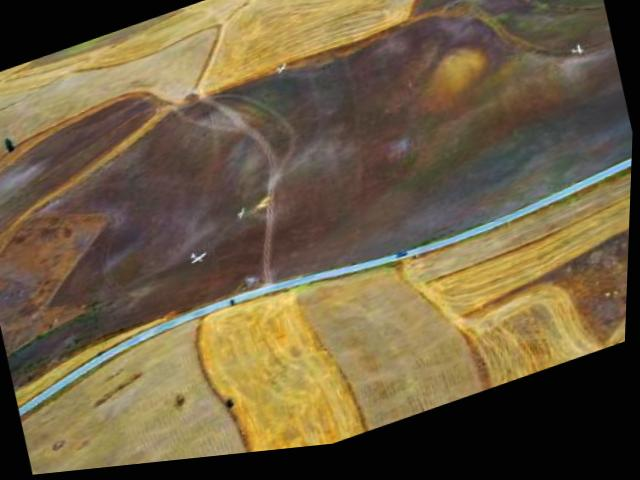uav: (186, 243, 215, 276), (233, 206, 253, 230), (569, 51, 589, 71), (272, 66, 291, 83)
